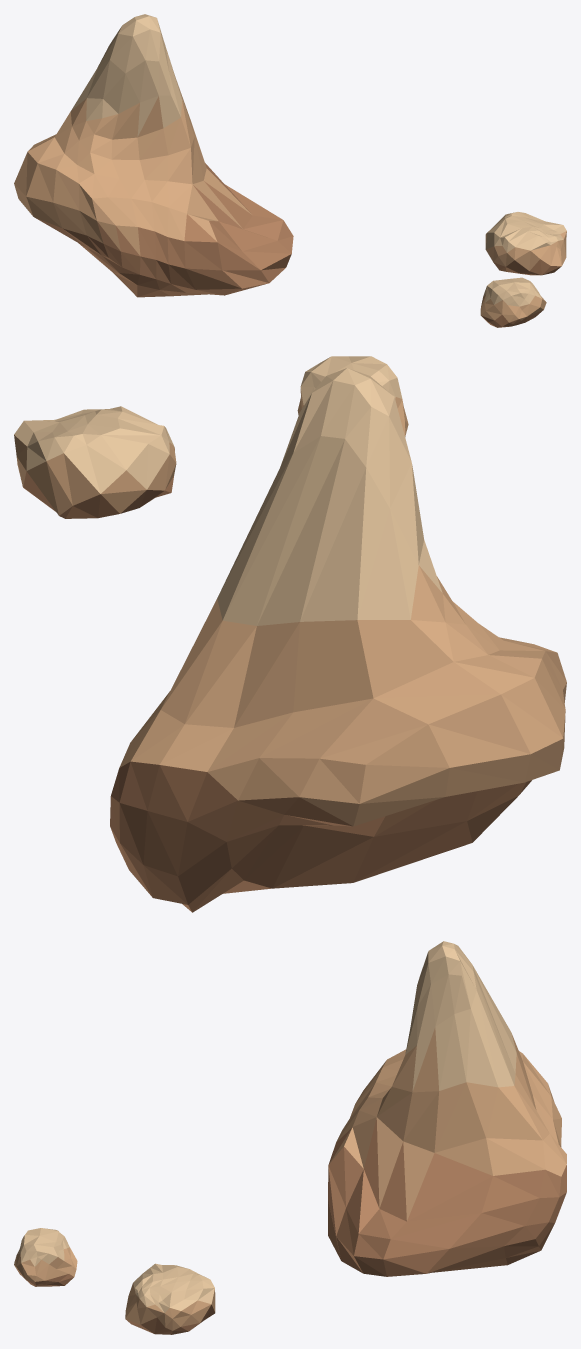
Rendered from canyon-1-1.glb.
3 views of the same model, one above another, from view 1: azimuth 30°, elevation 25°; view 2: azimuth 150°, elevation 25°; view 3: azimuth 270°, elevation 25° (orthographic). The views are drawn at different scales.
Parts seen in each view (by area): view 1: canyon-1-1; view 2: canyon-1-1; view 3: canyon-1-1.
Part boxes in pixels (x1=…): canyon-1-1: x1=14, y1=14, x2=566, y2=327; canyon-1-1: x1=14, y1=356, x2=566, y2=912; canyon-1-1: x1=14, y1=941, x2=566, y2=1334.
Size of the model in its own units: 39.87 by 25 by 42.62.
